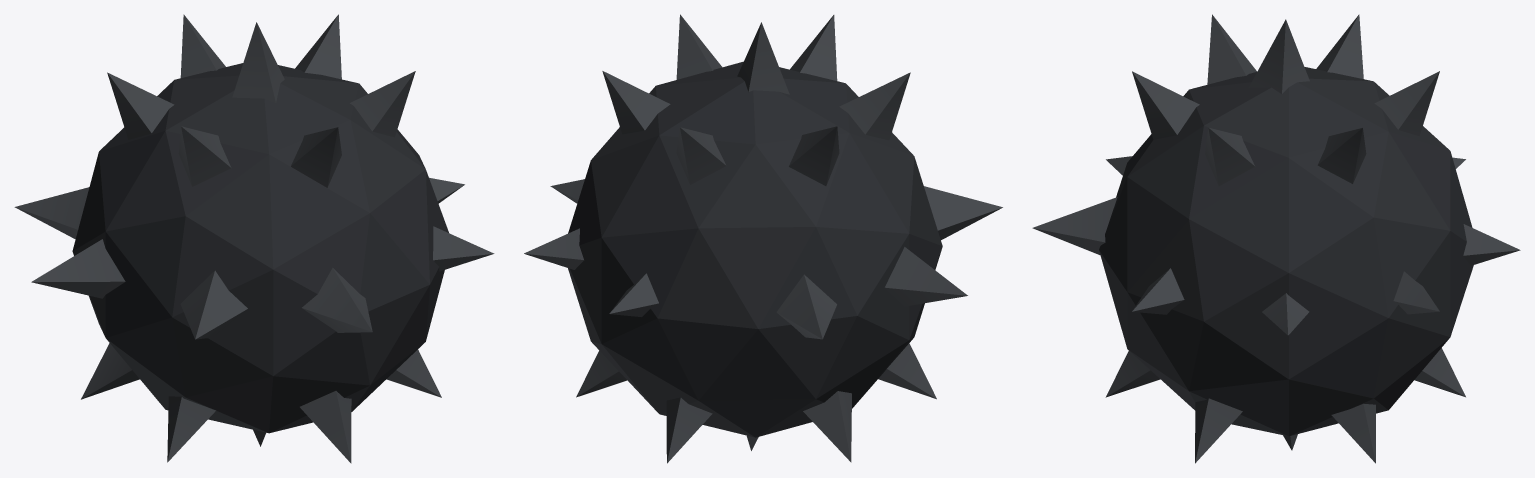
Rendered from SM_Prop_Cannonball_03.fbx.
3 views of the same model, side by side, from view 1: azimuth 30°, elevation 25°; view 2: azimuth 150°, elevation 25°; view 3: azimuth 270°, elevation 25° (orthographic).
Parts seen in each view (by area): view 1: SM_Prop_Cannonball_03; view 2: SM_Prop_Cannonball_03; view 3: SM_Prop_Cannonball_03.
Part boxes in pixels (box(x1,y1,x2,y2)): SM_Prop_Cannonball_03: box(14, 14, 494, 463); SM_Prop_Cannonball_03: box(524, 14, 1002, 463); SM_Prop_Cannonball_03: box(1032, 14, 1520, 463).
Bounding box in the file's own units: 26.87 × 25.85 × 26.73.
